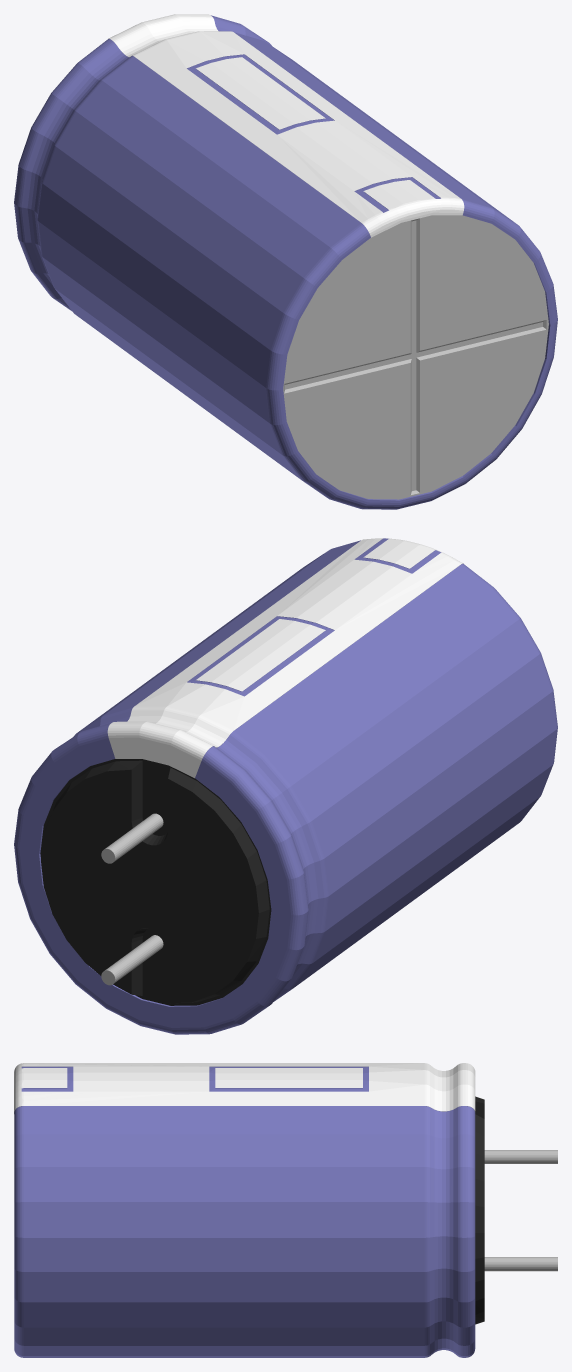
File: cap_el_d12.5_h20_pitch5_w0.6.obj
The picture shows the model from 3 angles, top to bottom: view 1: azimuth 30°, elevation 25°; view 2: azimuth 150°, elevation 25°; view 3: azimuth 270°, elevation 25°; orthographic projection. The views are drawn at different scales.
Parts seen in each view (by area): view 1: cap_el_d12.5_h20_pitch5_w0.6; view 2: cap_el_d12.5_h20_pitch5_w0.6; view 3: cap_el_d12.5_h20_pitch5_w0.6.
Part boxes in pixels (box(x1,y1,x2,y2)): cap_el_d12.5_h20_pitch5_w0.6: box(14, 14, 557, 509); cap_el_d12.5_h20_pitch5_w0.6: box(14, 538, 557, 1034); cap_el_d12.5_h20_pitch5_w0.6: box(14, 1063, 557, 1357).
Bounding box in the file's own units: 0.0103 × 0.0103 × 0.0189.
